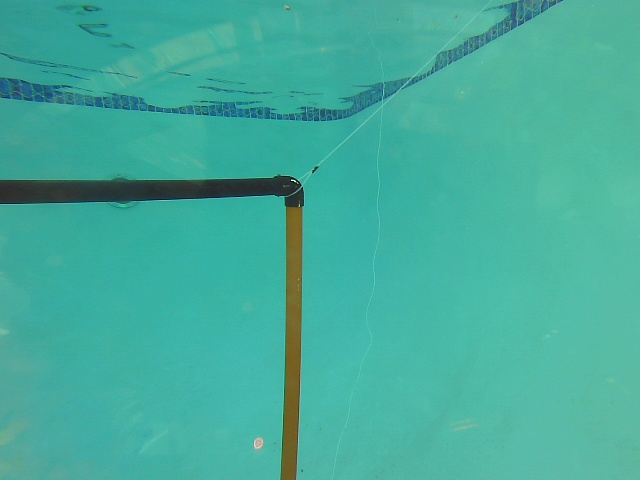Gate: (1, 165, 309, 479)
